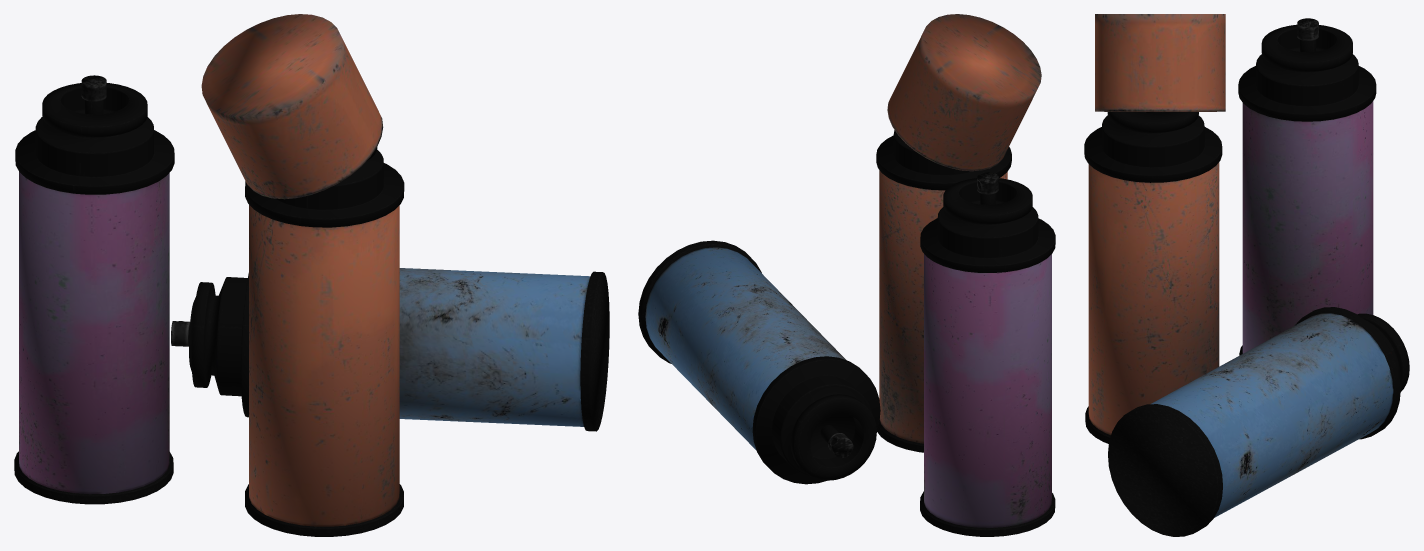
Rendered from spray.gltf.
The picture shows the model from 3 angles, left to right: view 1: azimuth 30°, elevation 25°; view 2: azimuth 150°, elevation 25°; view 3: azimuth 270°, elevation 25°; orthographic projection. The views are drawn at different scales.
Visible parts, largest first — view 1: Spray; view 2: Spray; view 3: Spray.
Boxes of the visible parts, <box> form: Spray: <box>14,14,609,536</box>; Spray: <box>638,14,1055,536</box>; Spray: <box>1084,14,1409,536</box>.
Bounding box in the file's own units: 2.21 × 1.89 × 1.35.
1 material, 1 textured.
